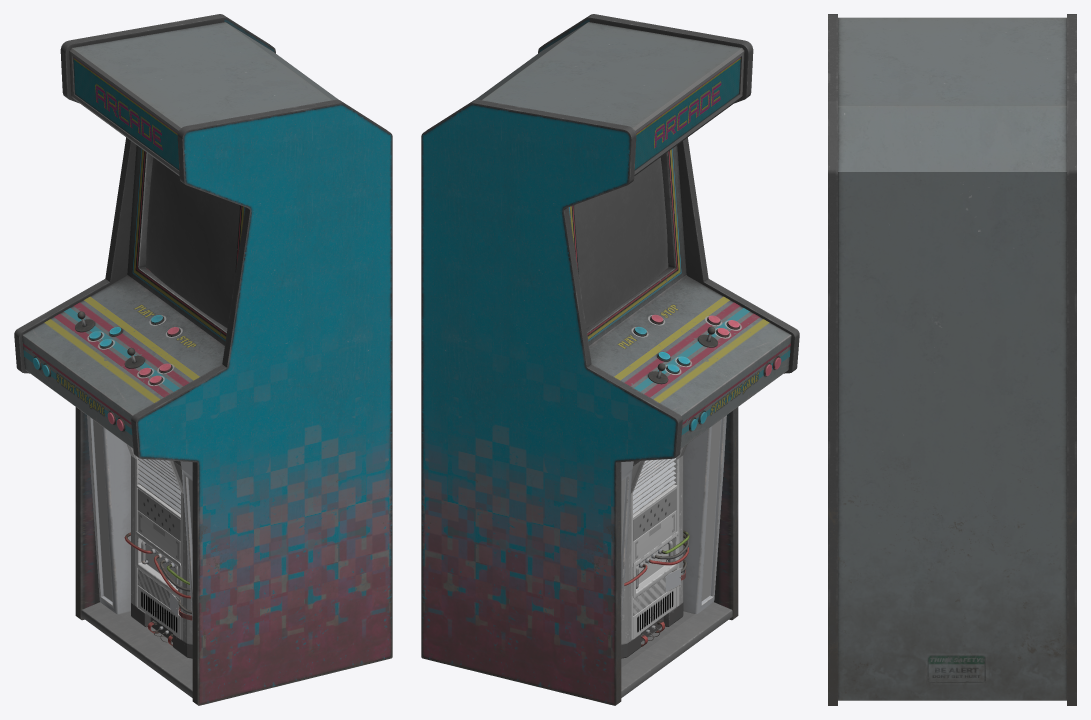
Rendered from SM_GameArcade_01b.fbx.
The picture shows the model from 3 angles, left to right: view 1: azimuth 30°, elevation 25°; view 2: azimuth 150°, elevation 25°; view 3: azimuth 270°, elevation 25°; orthographic projection. The views are drawn at different scales.
Visible parts, largest first — view 1: SM_GameArcade_01b_LOD0; view 2: SM_GameArcade_01b_LOD0; view 3: SM_GameArcade_01b_LOD0.
Part boxes in pixels (left/top/right/bottom): SM_GameArcade_01b_LOD0: left=14, top=14, right=392, bottom=705; SM_GameArcade_01b_LOD0: left=421, top=14, right=799, bottom=705; SM_GameArcade_01b_LOD0: left=828, top=14, right=1076, bottom=705.
Bounding box in the file's own units: 96.58 × 79.3 × 208.
2 materials, 2 textured.
